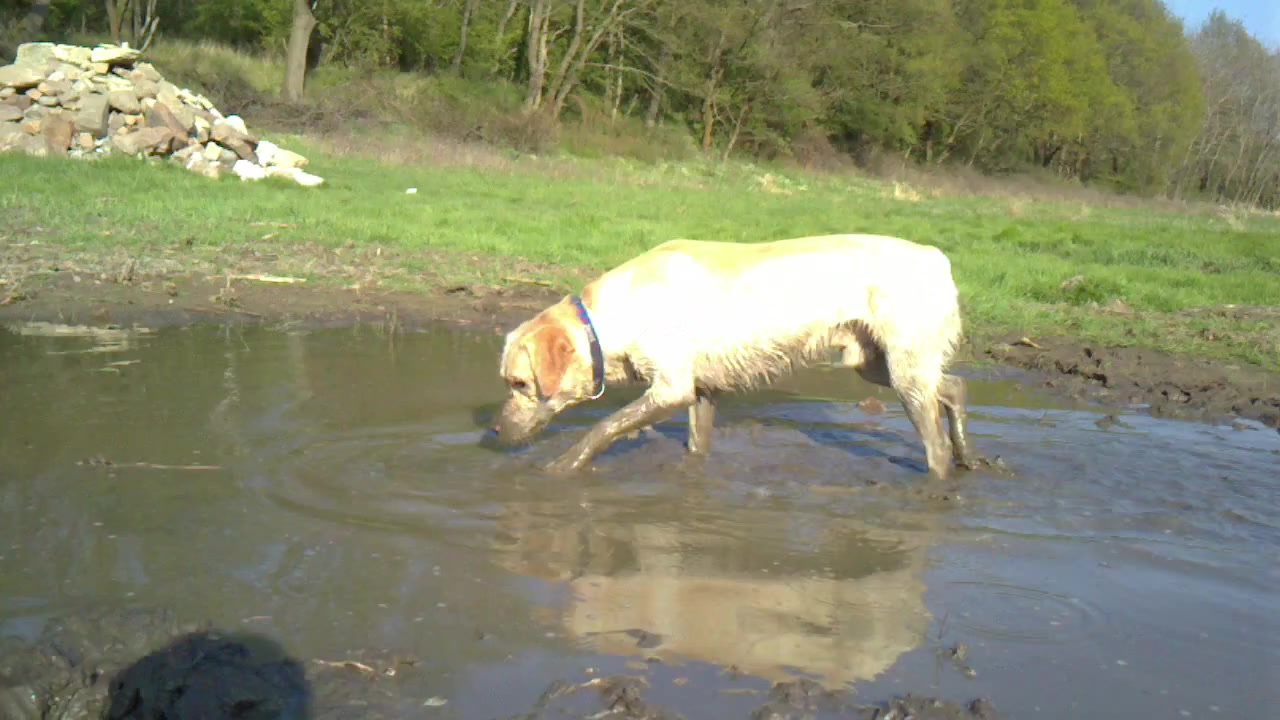dog: (484, 234, 978, 483)
